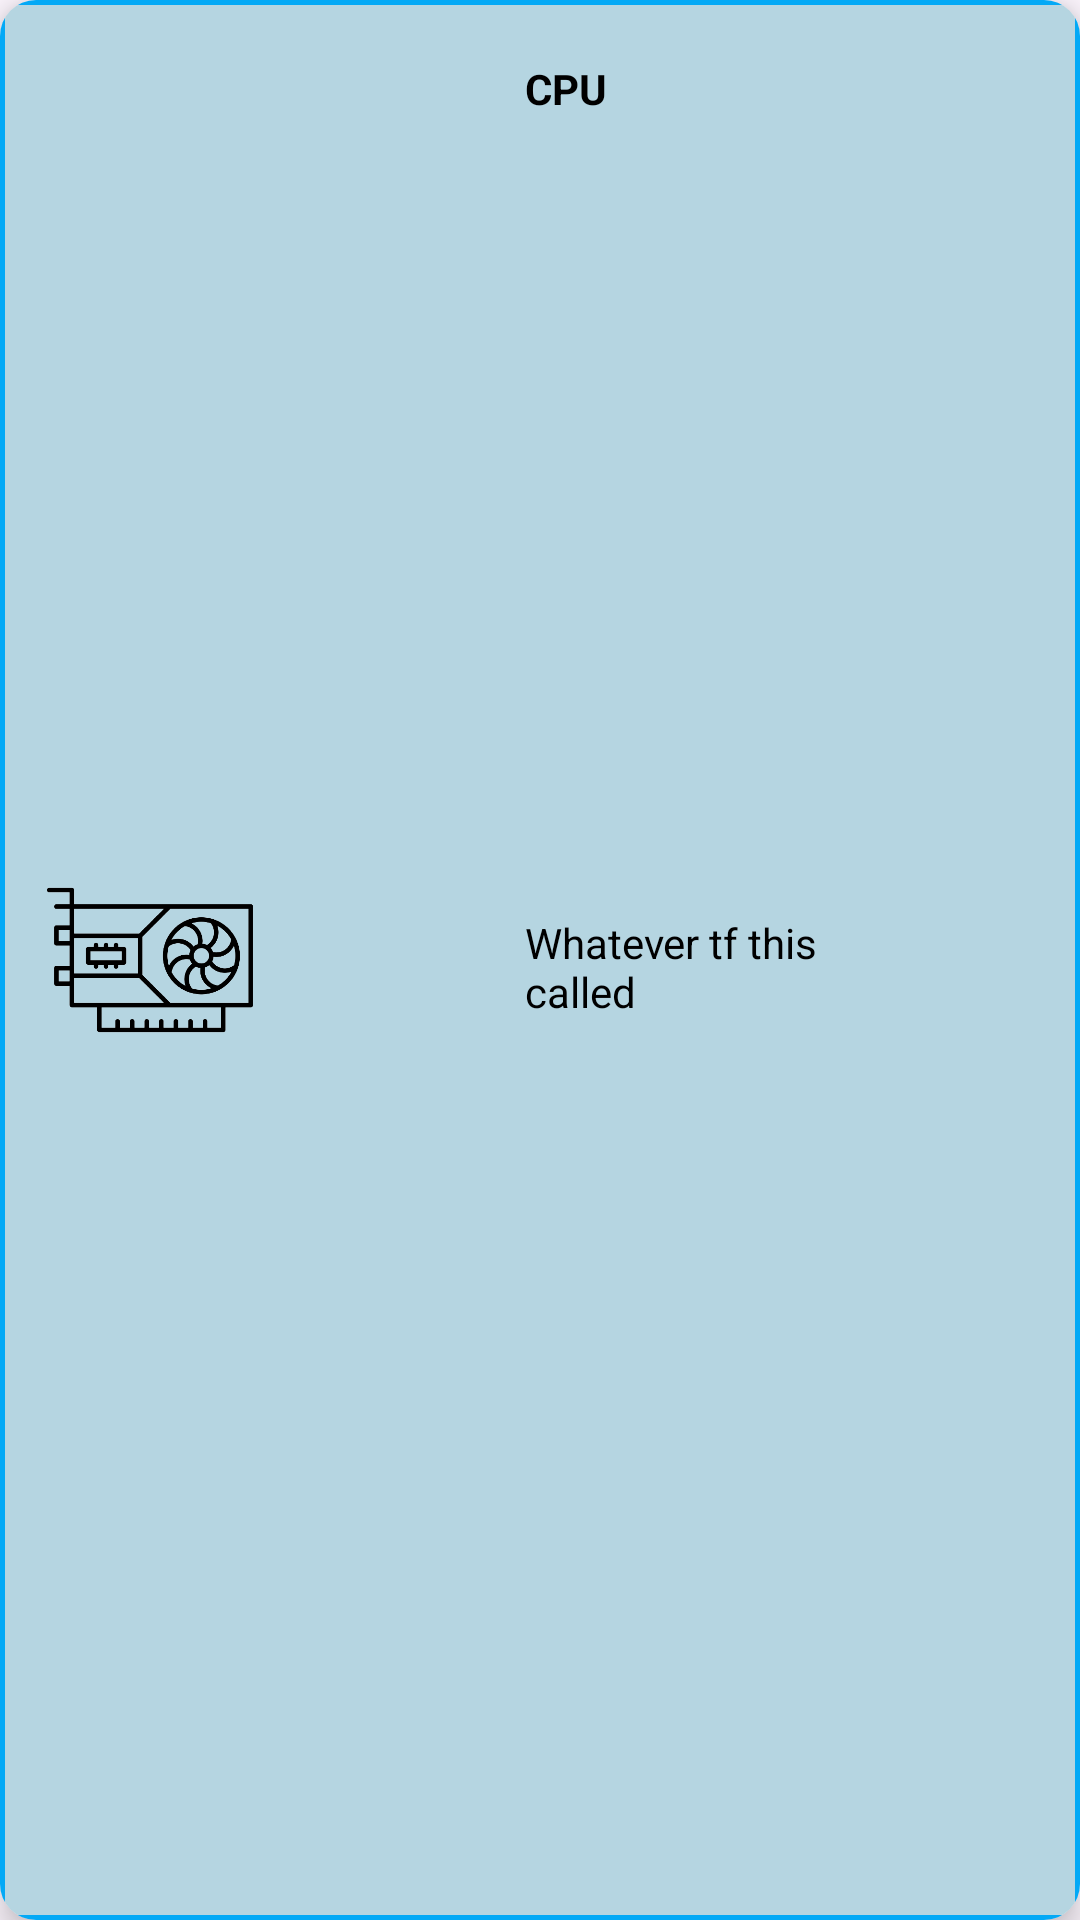

Icons on this 1080px x 1920px Android screen, each with its box as (x1, y1, x2, y2):
graphicscard: (47, 888, 253, 1032)
